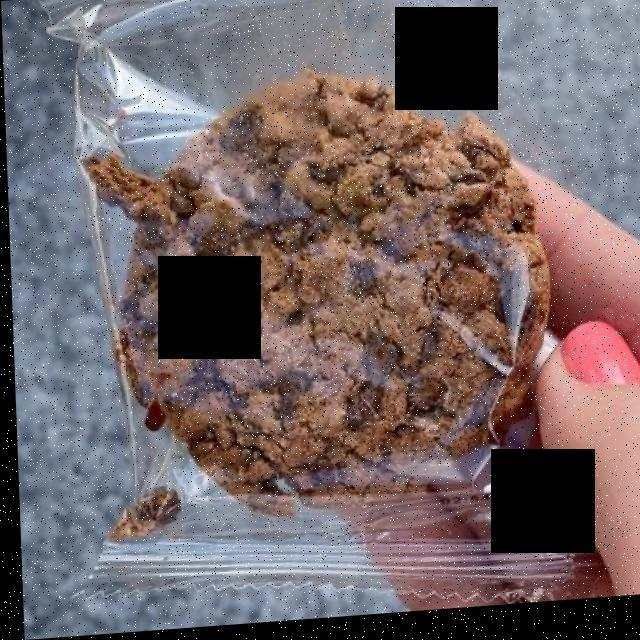cookies: (89, 82, 538, 502)
